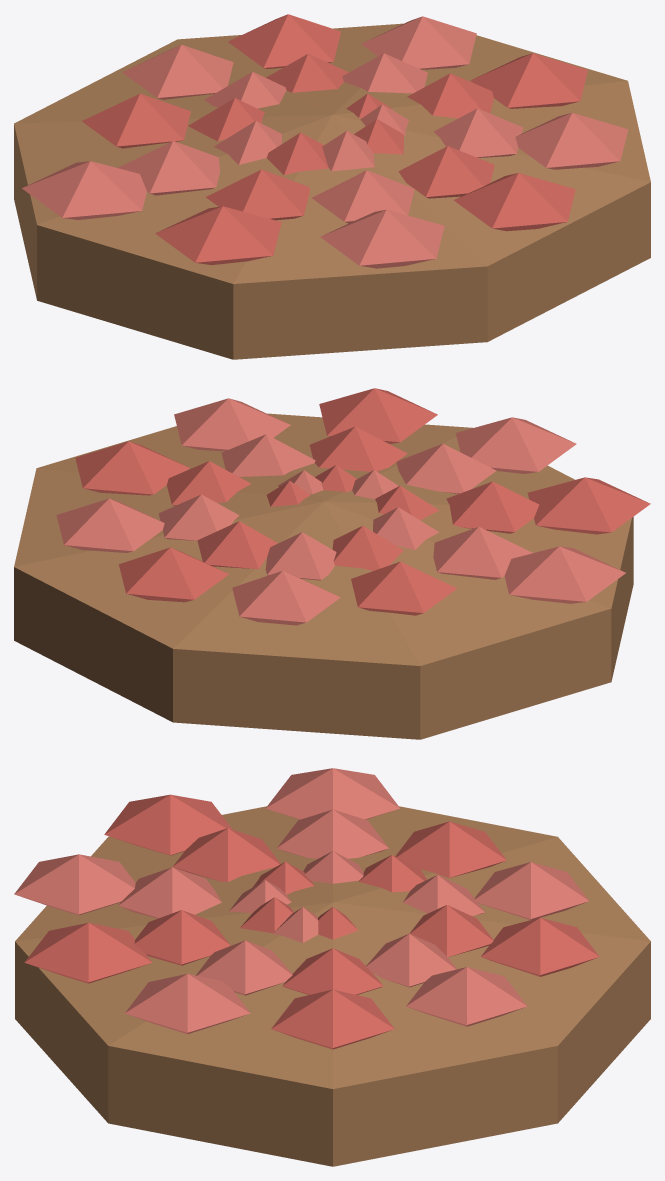
The model's file is deco_fossil.obj.
3 renders of one model, top to bottom at view 1: azimuth 30°, elevation 25°; view 2: azimuth 150°, elevation 25°; view 3: azimuth 270°, elevation 25°, orthographic. The views are drawn at different scales.
Parts seen in each view (by area): view 1: deco_fossil; view 2: deco_fossil; view 3: deco_fossil.
Part boxes in pixels (<box>): deco_fossil: <box>14,14,650,359</box>; deco_fossil: <box>14,388,650,739</box>; deco_fossil: <box>14,768,650,1166</box>.
Bounding box in the file's own units: 0.0286 × 0.0076 × 0.026.
1 material, 1 textured.
